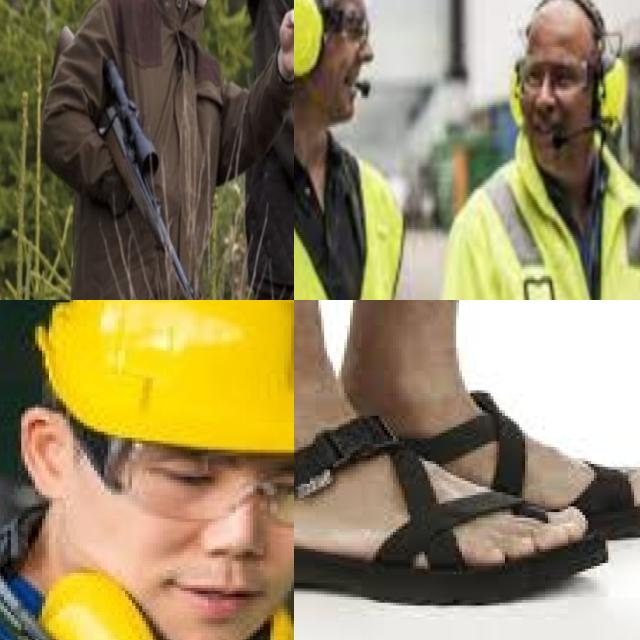Ear-protection: (503, 0, 636, 191), (0, 555, 294, 640), (294, 0, 390, 145)
Sandals: (294, 372, 608, 606)
glasses: (44, 400, 294, 531)
head_helmet: (26, 300, 294, 457)
person: (0, 300, 294, 640)
